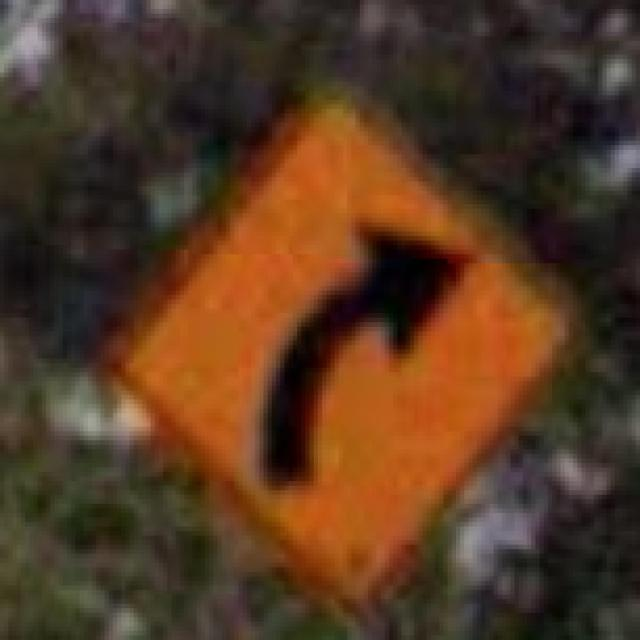Tikungan Ke Kanan: (100, 81, 582, 604)
